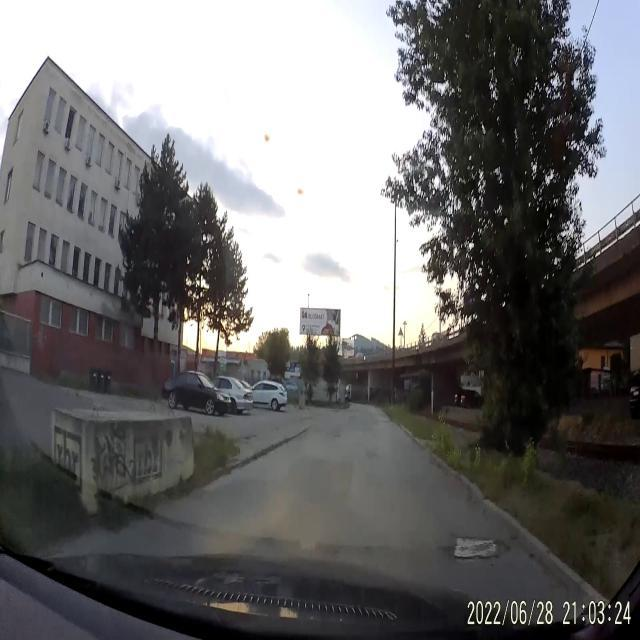Pothole: (441, 527, 517, 566), (366, 448, 380, 462), (331, 430, 341, 440)
